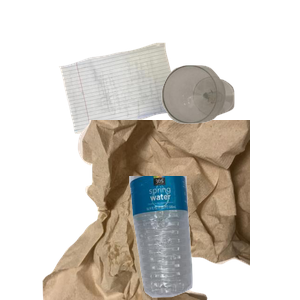glass: (159, 63, 300, 179)
paper: (56, 40, 229, 166)
plastic: (127, 176, 300, 300)
trash: (40, 120, 280, 300)
